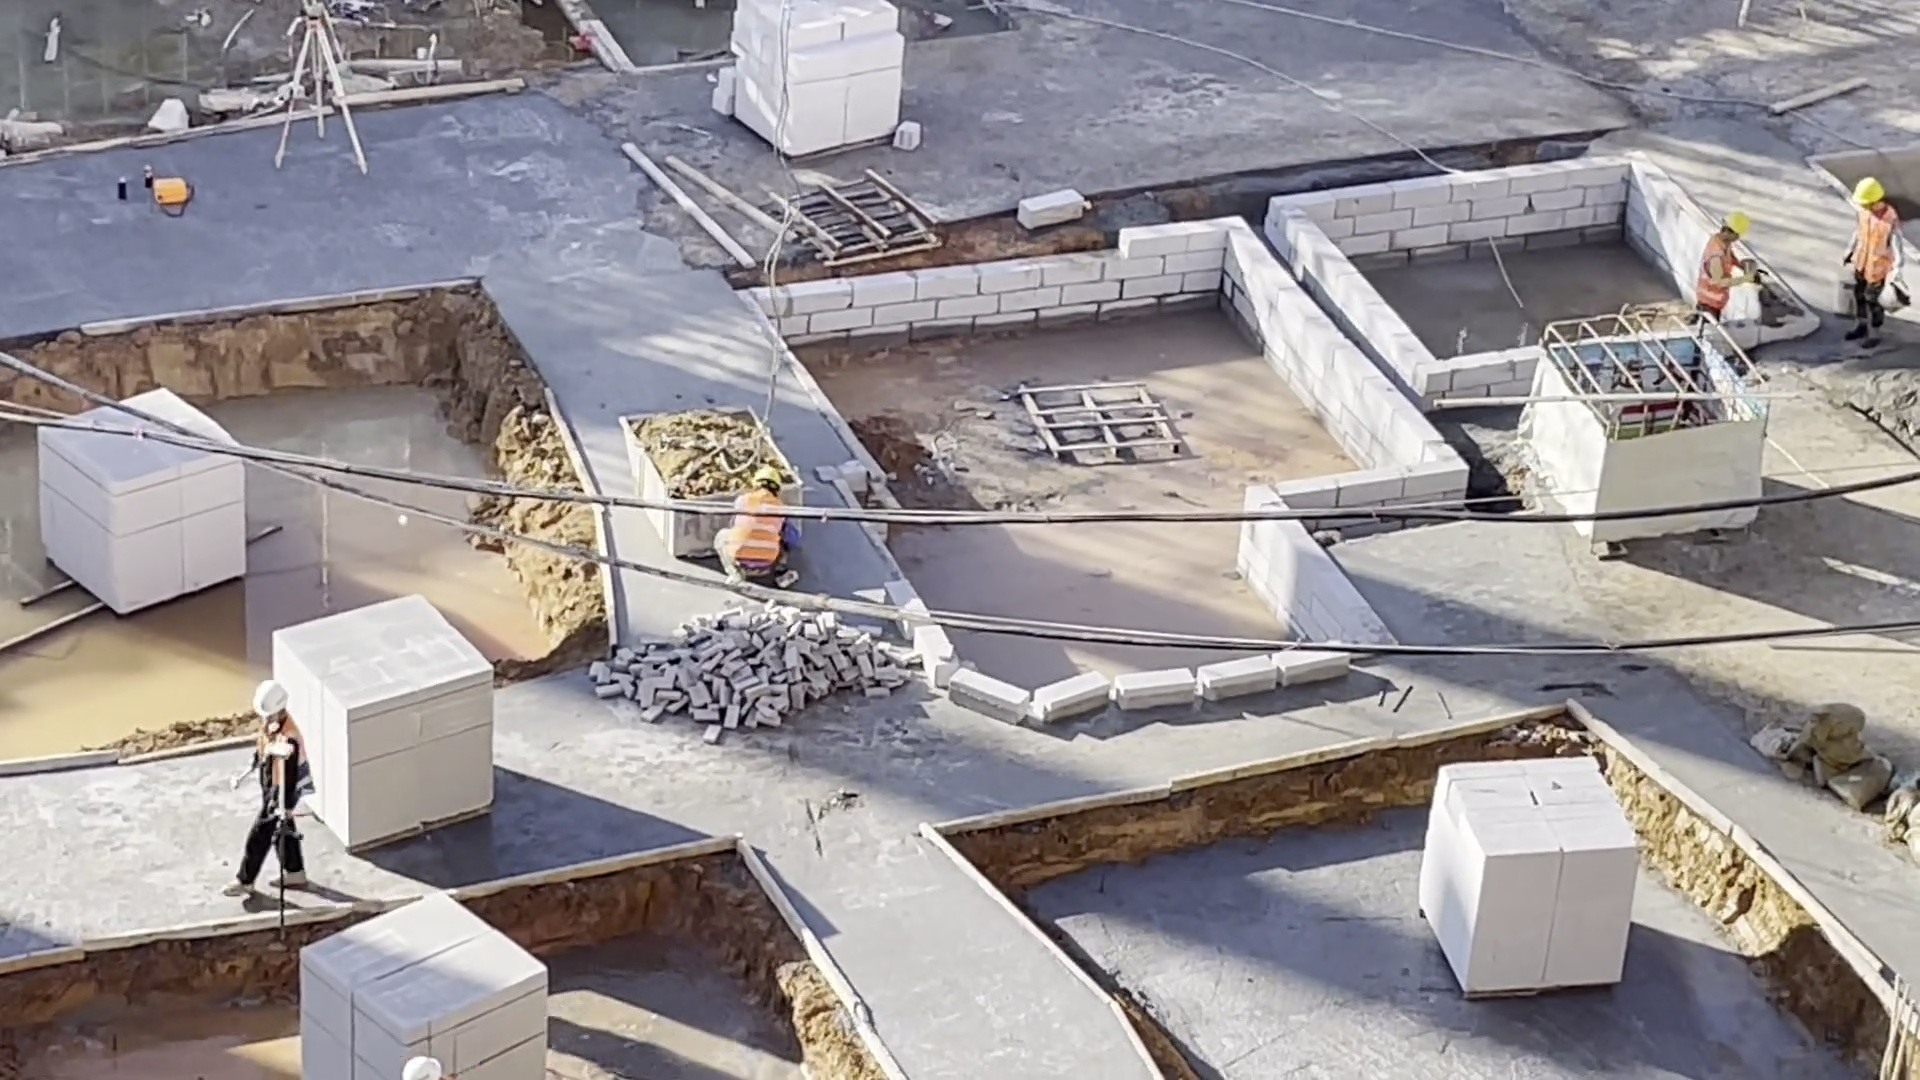brick: (1419, 748, 1652, 1006), (305, 587, 508, 849), (280, 895, 554, 1080), (34, 460, 252, 624), (712, 1, 898, 161)
helmet: (250, 679, 290, 718), (1847, 176, 1885, 206), (751, 466, 784, 493), (1723, 210, 1751, 236)
hopper: (607, 408, 722, 498)
person: (226, 679, 319, 899), (691, 463, 805, 593), (1826, 175, 1906, 353), (1695, 211, 1761, 325)
vest: (254, 719, 315, 799), (1854, 207, 1897, 281), (723, 515, 787, 562), (1698, 239, 1735, 304)
